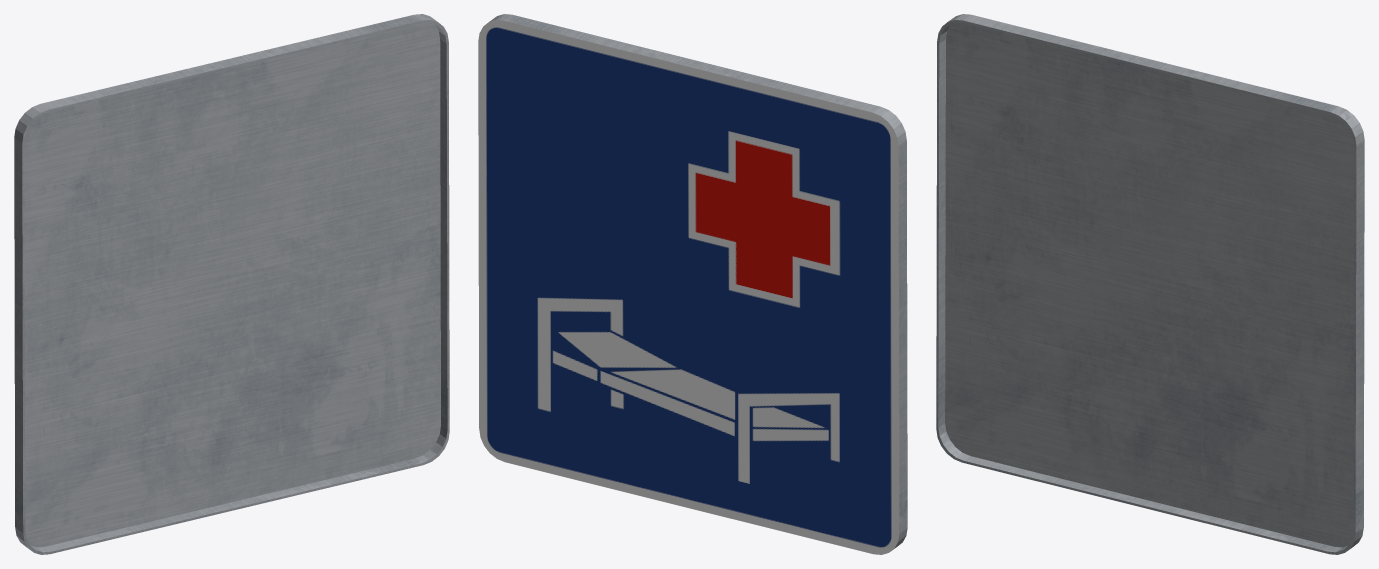
The model's file is Hospital.fbx.
3 renders of one model, left to right at view 1: azimuth 30°, elevation 25°; view 2: azimuth 150°, elevation 25°; view 3: azimuth 330°, elevation 25°, orthographic.
Parts seen in each view (by area): view 1: Hospital; view 2: Hospital; view 3: Hospital.
Boxes of the visible parts, <box> form: Hospital: <box>14,14,449,554</box>; Hospital: <box>478,14,907,554</box>; Hospital: <box>936,14,1364,554</box>.
Bounding box in the file's own units: 0.0281 × 0.6002 × 0.6001.
